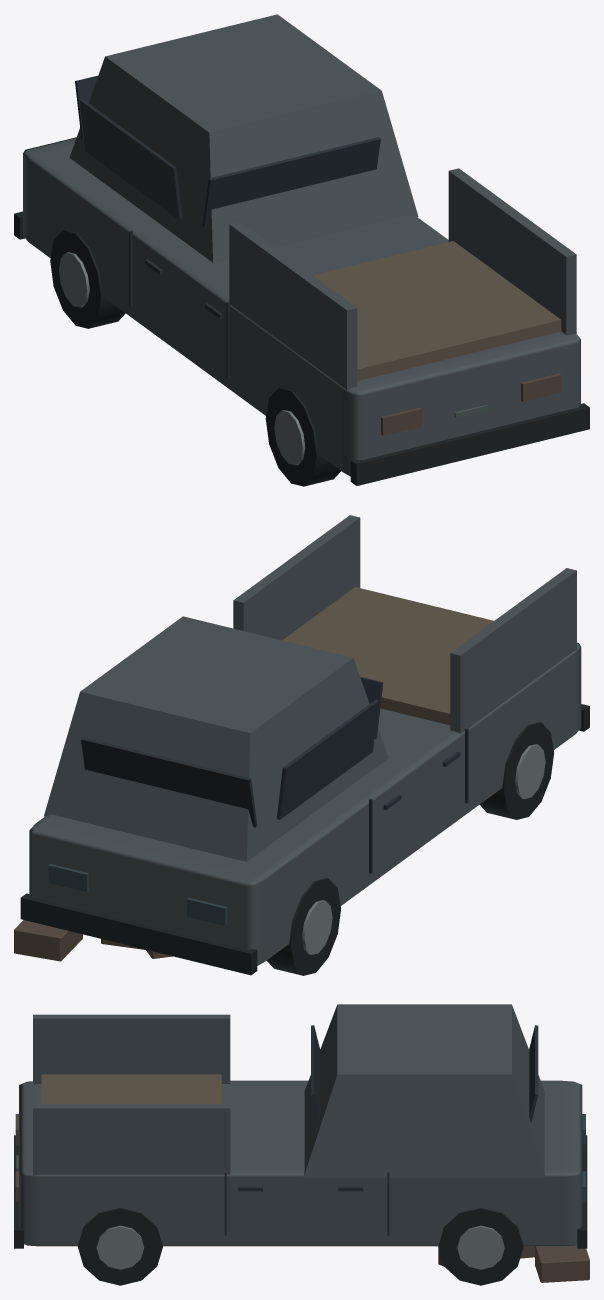
The model's file is pickup-wreck-3.glb.
The picture shows the model from 3 angles, top to bottom: view 1: azimuth 30°, elevation 25°; view 2: azimuth 150°, elevation 25°; view 3: azimuth 270°, elevation 25°; orthographic projection. The views are drawn at different scales.
Visible parts, largest first — view 1: pickup-wreck/2/KR-230-3; view 2: pickup-wreck/2/KR-230-3; view 3: pickup-wreck/2/KR-230-3.
Part boxes in pixels (x1,y1,x2,y2): pickup-wreck/2/KR-230-3: [14, 14, 589, 486]; pickup-wreck/2/KR-230-3: [14, 515, 589, 975]; pickup-wreck/2/KR-230-3: [14, 1004, 589, 1285].
Size of the model in its own units: 1.93 by 1.8 by 4.6.
